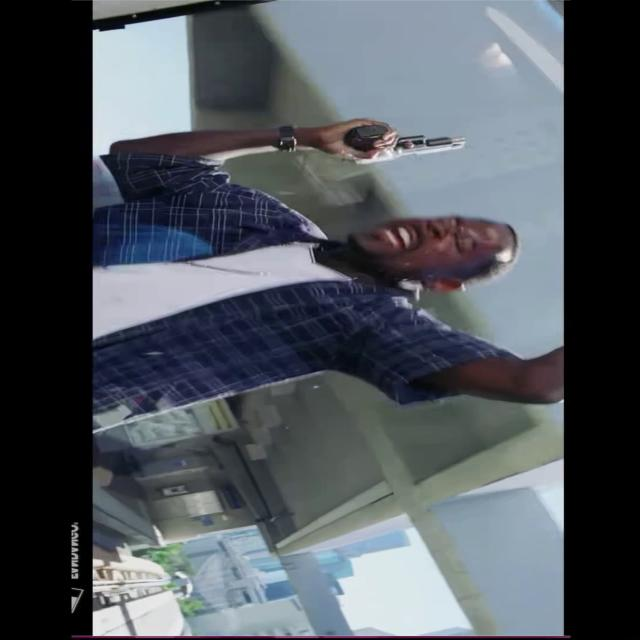weapons: (326, 119, 483, 166)
